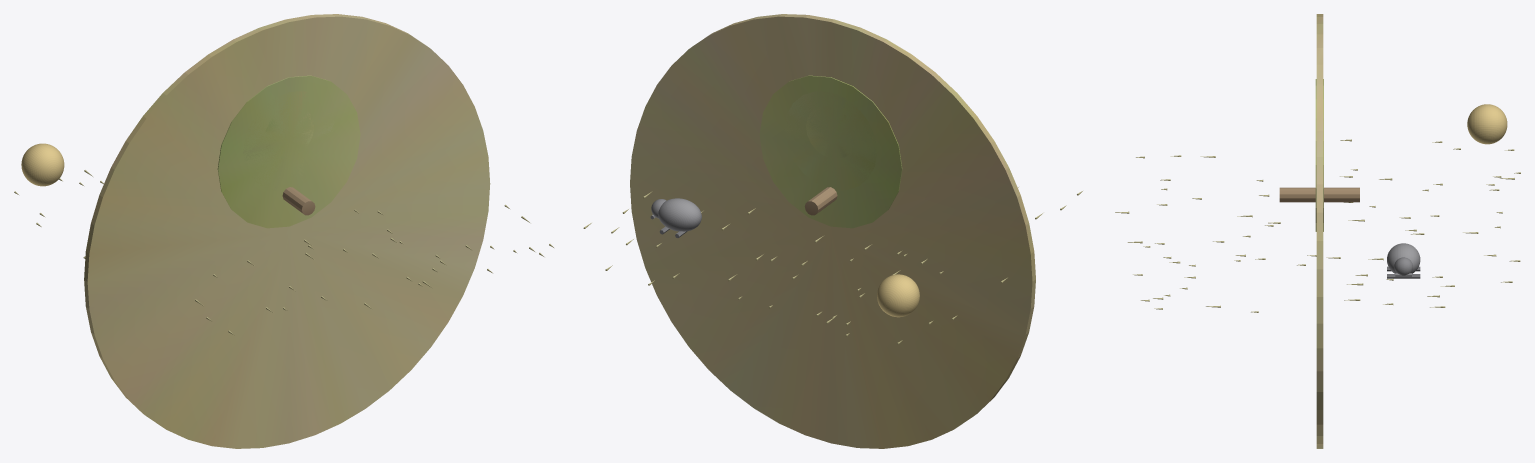
File: tropical-savanna.glb
3 renders of one model, left to right at view 1: azimuth 30°, elevation 25°; view 2: azimuth 150°, elevation 25°; view 3: azimuth 270°, elevation 25°, orthographic. The views are drawn at different scales.
Visible parts, largest first — view 1: ground, canopy_0, canopy_1, sun, trunk; view 2: ground, canopy_0, canopy_1, sun, elephant_body, canopy_2, trunk; view 3: ground, sun, trunk, elephant_body, canopy_0.
Part boxes in pixels (box(x1,y1,x2,y2)): ground: box(84, 14, 490, 448); canopy_0: box(217, 75, 360, 228); canopy_1: box(243, 91, 334, 190); sun: box(21, 143, 64, 186); trunk: box(282, 187, 315, 215); ground: box(630, 14, 1035, 448); canopy_0: box(759, 75, 902, 228); canopy_1: box(784, 91, 876, 190); sun: box(877, 274, 919, 317); elephant_body: box(658, 198, 701, 231); canopy_2: box(806, 106, 848, 157); trunk: box(804, 187, 837, 215); ground: box(1316, 14, 1323, 448); sun: box(1467, 104, 1507, 144); trunk: box(1279, 187, 1359, 202); elephant_body: box(1387, 243, 1420, 273); canopy_0: box(1315, 79, 1323, 231).
Bounding box in the file's own units: 13 × 13 × 12.2.
